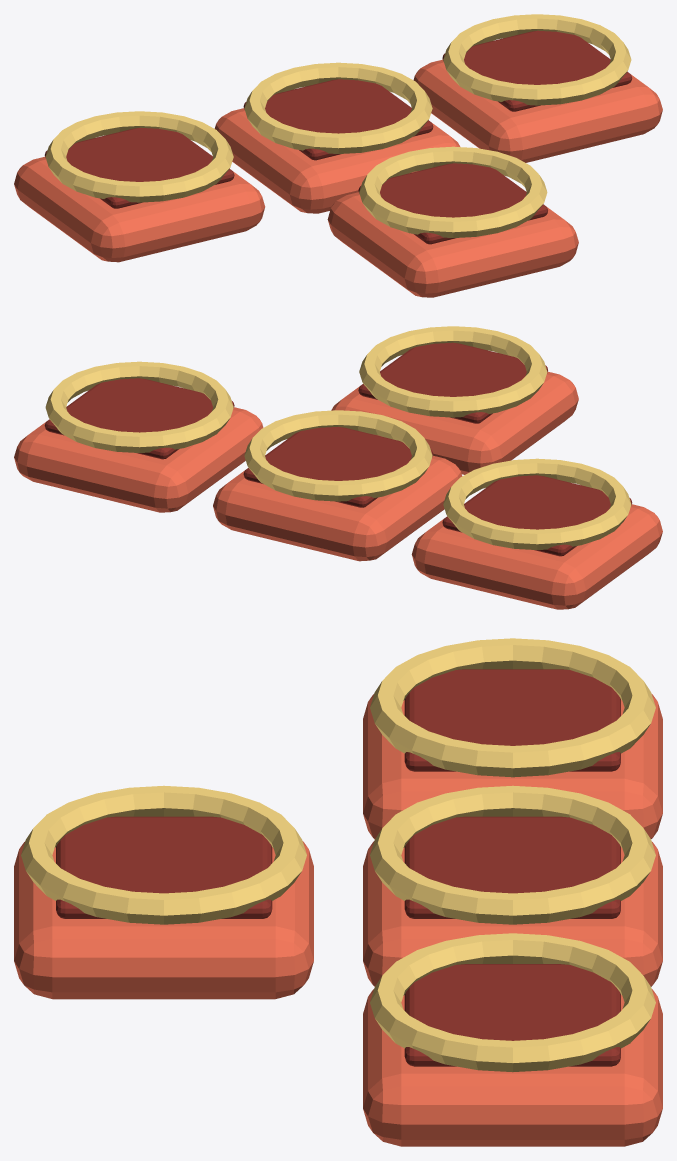
Rendered from PR3D_Container_T.glb.
3 renders of one model, top to bottom at view 1: azimuth 30°, elevation 25°; view 2: azimuth 150°, elevation 25°; view 3: azimuth 270°, elevation 25°, orthographic. The views are drawn at different scales.
Visible parts, largest first — view 1: Visual_T_Base_01, Visual_T_Base_00, Visual_T_Base_03, Visual_T_Base_02, Visual_T_Rim_02, Visual_T_Rim_03, Visual_T_Rim_01, Visual_T_Rim_00, Visual_T_Inset_03, Visual_T_Inset_02, Visual_T_Inset_01, Visual_T_Inset_00; view 2: Visual_T_Base_01, Visual_T_Base_02, Visual_T_Base_03, Visual_T_Base_00, Visual_T_Rim_03, Visual_T_Rim_02, Visual_T_Rim_01, Visual_T_Rim_00, Visual_T_Inset_01, Visual_T_Inset_00, Visual_T_Inset_02, Visual_T_Inset_03; view 3: Visual_T_Base_00, Visual_T_Base_03, Visual_T_Rim_01, Visual_T_Rim_00, Visual_T_Rim_02, Visual_T_Rim_03, Visual_T_Inset_00, Visual_T_Inset_02, Visual_T_Inset_03, Visual_T_Inset_01, Visual_T_Base_01, Visual_T_Base_02.
Boxes of the visible parts, box(x1,y1,x2,y2) form: Visual_T_Base_01: box(14, 156, 265, 262); Visual_T_Base_00: box(327, 192, 578, 297); Visual_T_Base_03: box(413, 59, 662, 162); Visual_T_Base_02: box(214, 108, 460, 213); Visual_T_Rim_02: box(244, 62, 432, 153); Visual_T_Rim_03: box(443, 14, 631, 105); Visual_T_Rim_01: box(45, 111, 233, 202); Visual_T_Rim_00: box(359, 146, 547, 237); Visual_T_Inset_03: box(442, 30, 632, 111); Visual_T_Inset_02: box(243, 79, 433, 160); Visual_T_Inset_01: box(44, 127, 234, 208); Visual_T_Inset_00: box(358, 163, 547, 244); Visual_T_Base_01: box(411, 504, 662, 609); Visual_T_Base_02: box(213, 455, 462, 561); Visual_T_Base_03: box(14, 407, 263, 512); Visual_T_Base_00: box(331, 371, 578, 474); Visual_T_Rim_03: box(45, 361, 233, 452); Visual_T_Rim_02: box(244, 410, 432, 501); Visual_T_Rim_01: box(443, 458, 631, 549); Visual_T_Rim_00: box(359, 326, 547, 417); Visual_T_Inset_01: box(442, 475, 632, 556); Visual_T_Inset_00: box(358, 342, 547, 423); Visual_T_Inset_02: box(243, 426, 433, 507); Visual_T_Inset_03: box(44, 378, 234, 459); Visual_T_Base_00: box(14, 841, 313, 999); Visual_T_Base_03: box(363, 989, 662, 1146); Visual_T_Rim_01: box(370, 638, 655, 777); Visual_T_Rim_00: box(21, 785, 306, 924); Visual_T_Rim_02: box(370, 785, 655, 924); Visual_T_Rim_03: box(370, 933, 655, 1072); Visual_T_Inset_00: box(56, 816, 272, 918); Visual_T_Inset_02: box(404, 816, 620, 918); Visual_T_Inset_03: box(404, 964, 620, 1066); Visual_T_Inset_01: box(404, 669, 620, 771); Visual_T_Base_01: box(363, 694, 662, 839); Visual_T_Base_02: box(363, 841, 662, 986).
Size of the model in its own units: 2.86 by 0.334 by 1.86.
